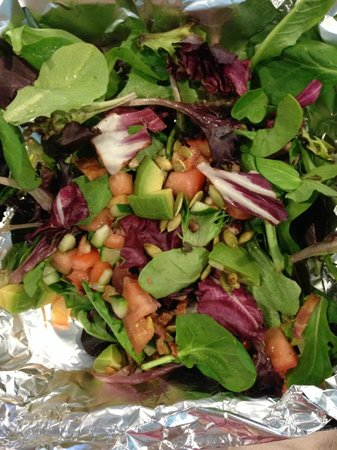chopped lettuce: (4, 8, 319, 138)
